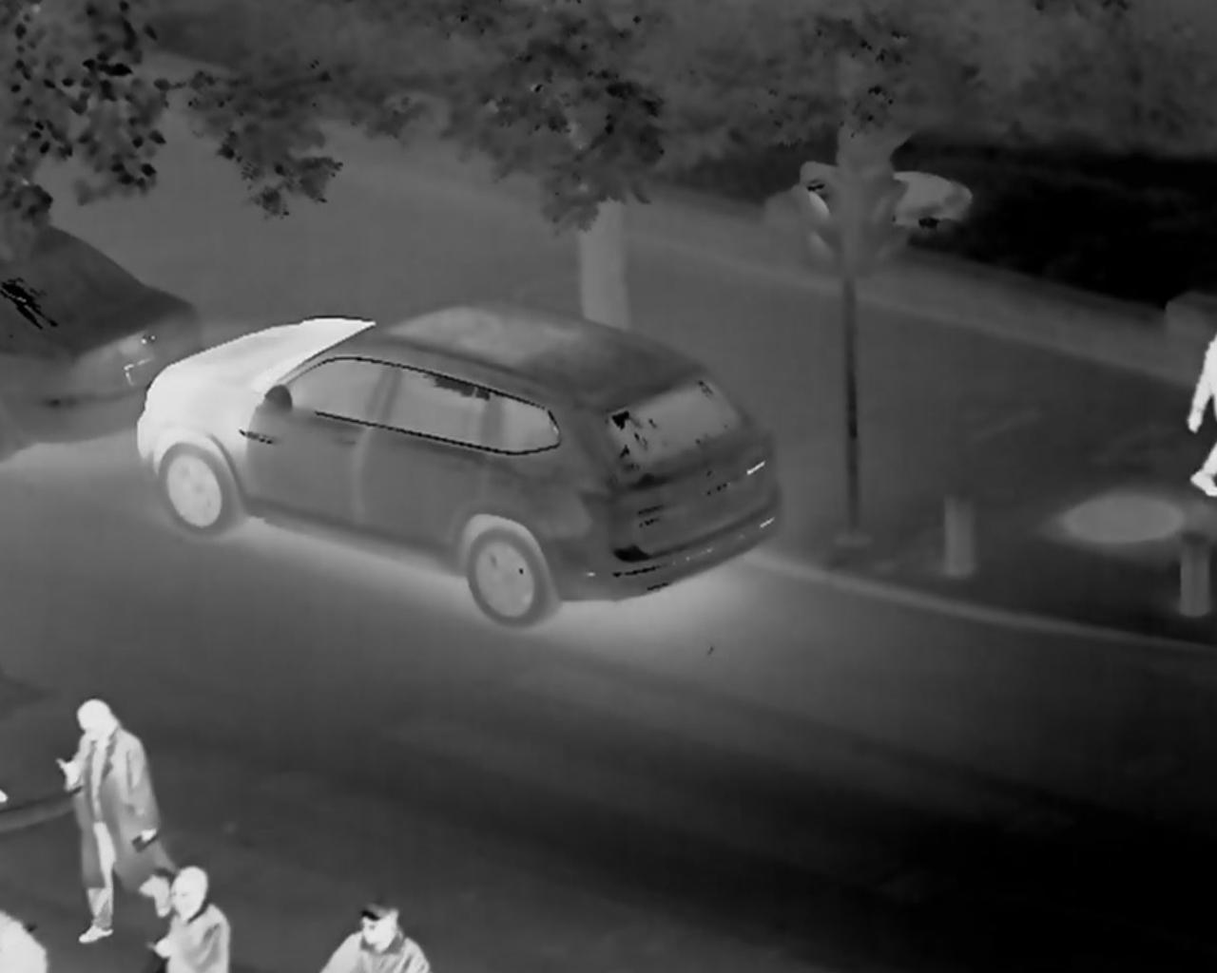person: (38, 672, 156, 934), (322, 879, 426, 967), (159, 874, 236, 959)
